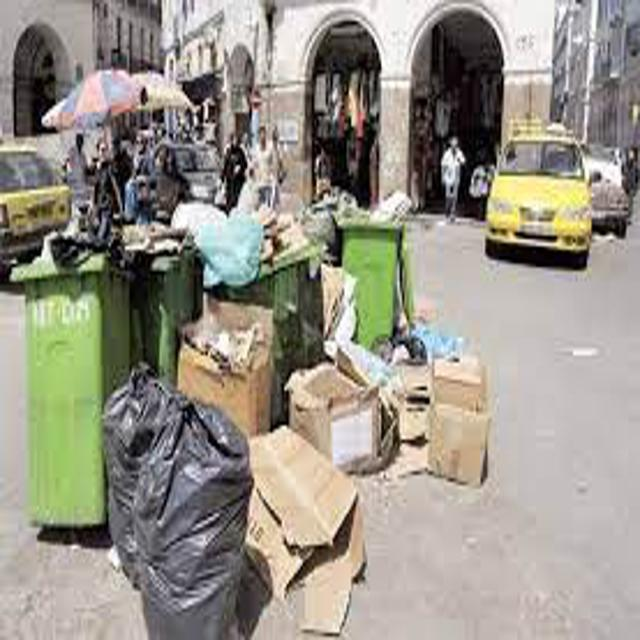garbage: (93, 292, 499, 640), (17, 194, 417, 288)
